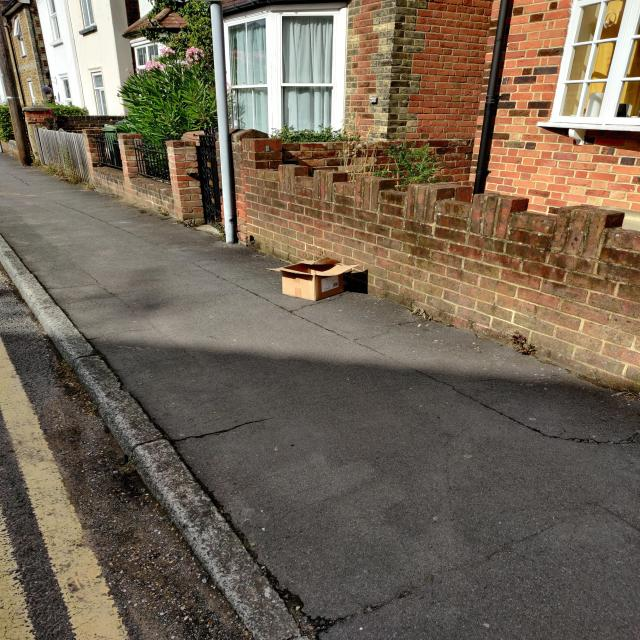litter: (267, 256, 360, 301), (417, 324, 422, 327)
